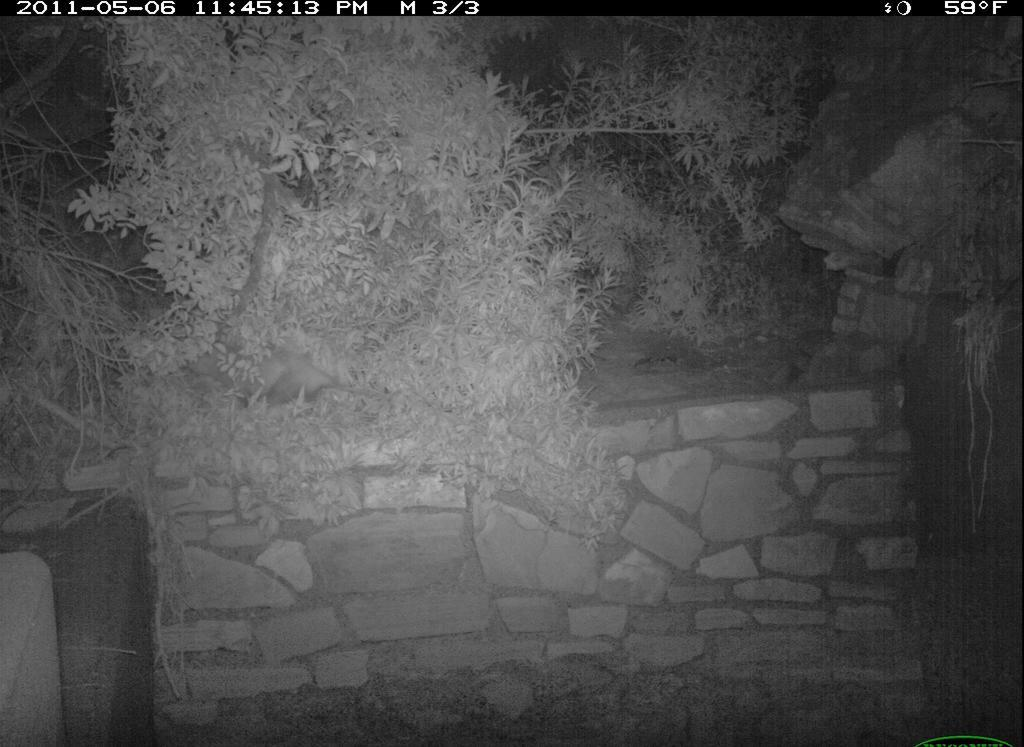opossum: (210, 328, 402, 432)
